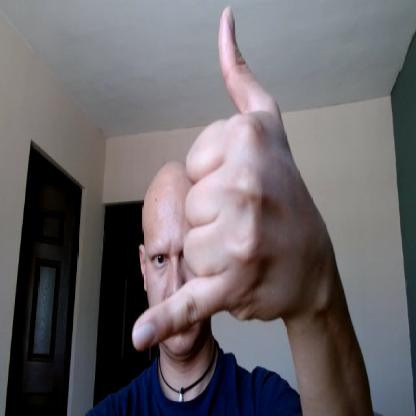Y: (133, 4, 318, 350)
